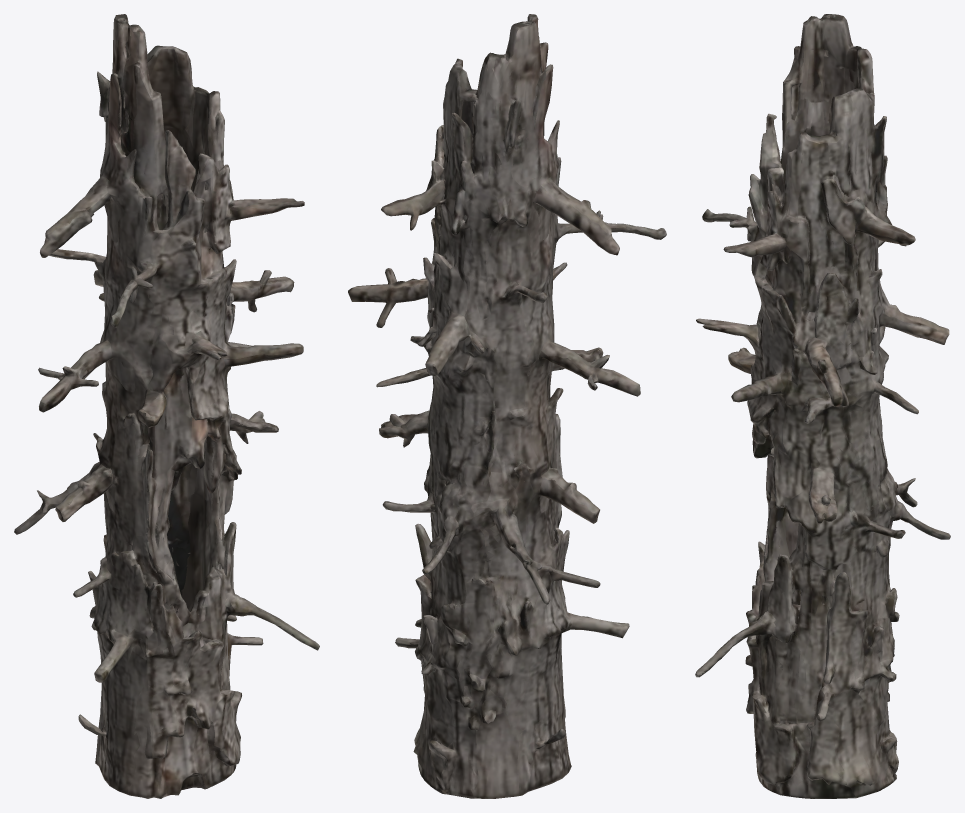
File: dead-snag-v13.glb
The picture shows the model from 3 angles, left to right: view 1: azimuth 30°, elevation 25°; view 2: azimuth 150°, elevation 25°; view 3: azimuth 270°, elevation 25°; orthographic projection. The views are drawn at different scales.
Parts seen in each view (by area): view 1: geometry_0; view 2: geometry_0; view 3: geometry_0.
Boxes of the visible parts, x1,y1,x2,y2 form: geometry_0: [14, 14, 319, 798]; geometry_0: [348, 14, 666, 798]; geometry_0: [695, 14, 950, 798].
Size of the model in its own units: 0.8271 by 2.2 by 0.6884.
1 material, 1 textured.
